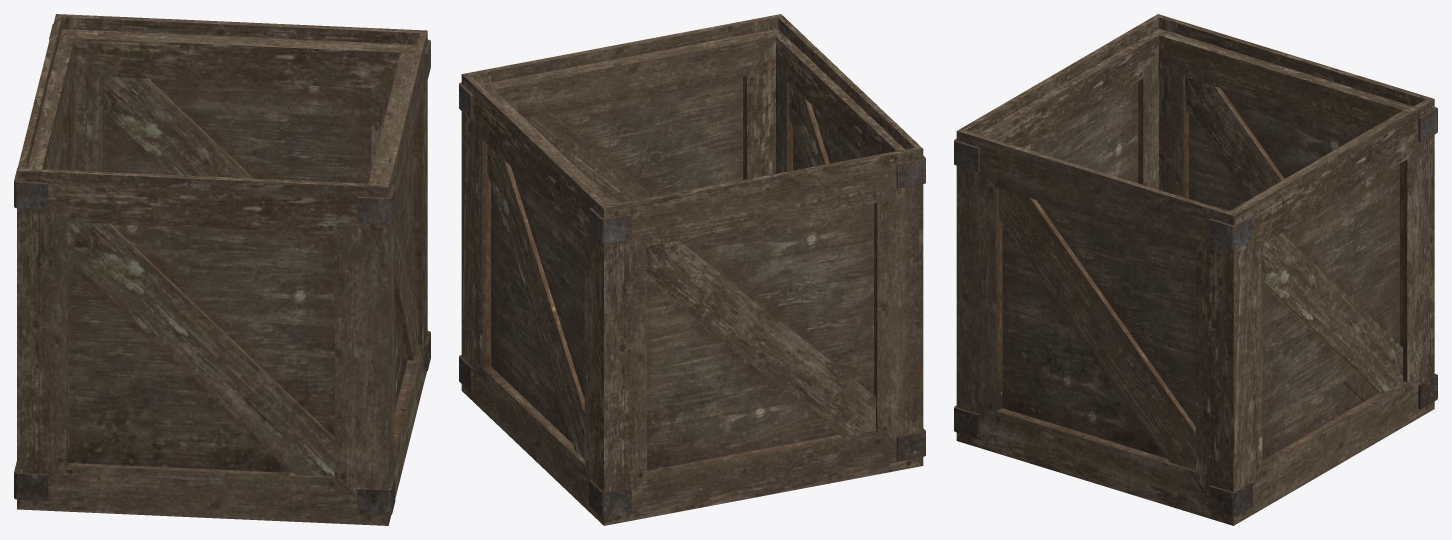
Rendered from Crate_Open.glb.
3 views of the same model, side by side, from view 1: azimuth 30°, elevation 25°; view 2: azimuth 150°, elevation 25°; view 3: azimuth 270°, elevation 25° (orthographic). The views are drawn at different scales.
Parts seen in each view (by area): view 1: SM_Crate_Open; view 2: SM_Crate_Open; view 3: SM_Crate_Open.
Part boxes in pixels (x1,y1,x2,y2): SM_Crate_Open: [14, 14, 430, 525]; SM_Crate_Open: [459, 14, 925, 525]; SM_Crate_Open: [954, 14, 1437, 525].
Size of the model in its own units: 1.4 by 0.9931 by 1.4.
1 material, 1 textured.
